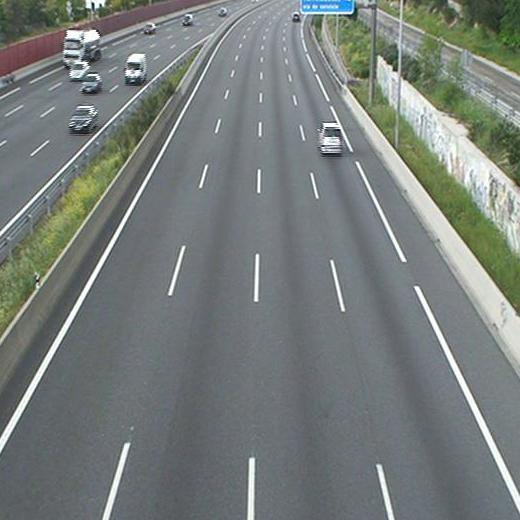car: (317, 122, 345, 156)
